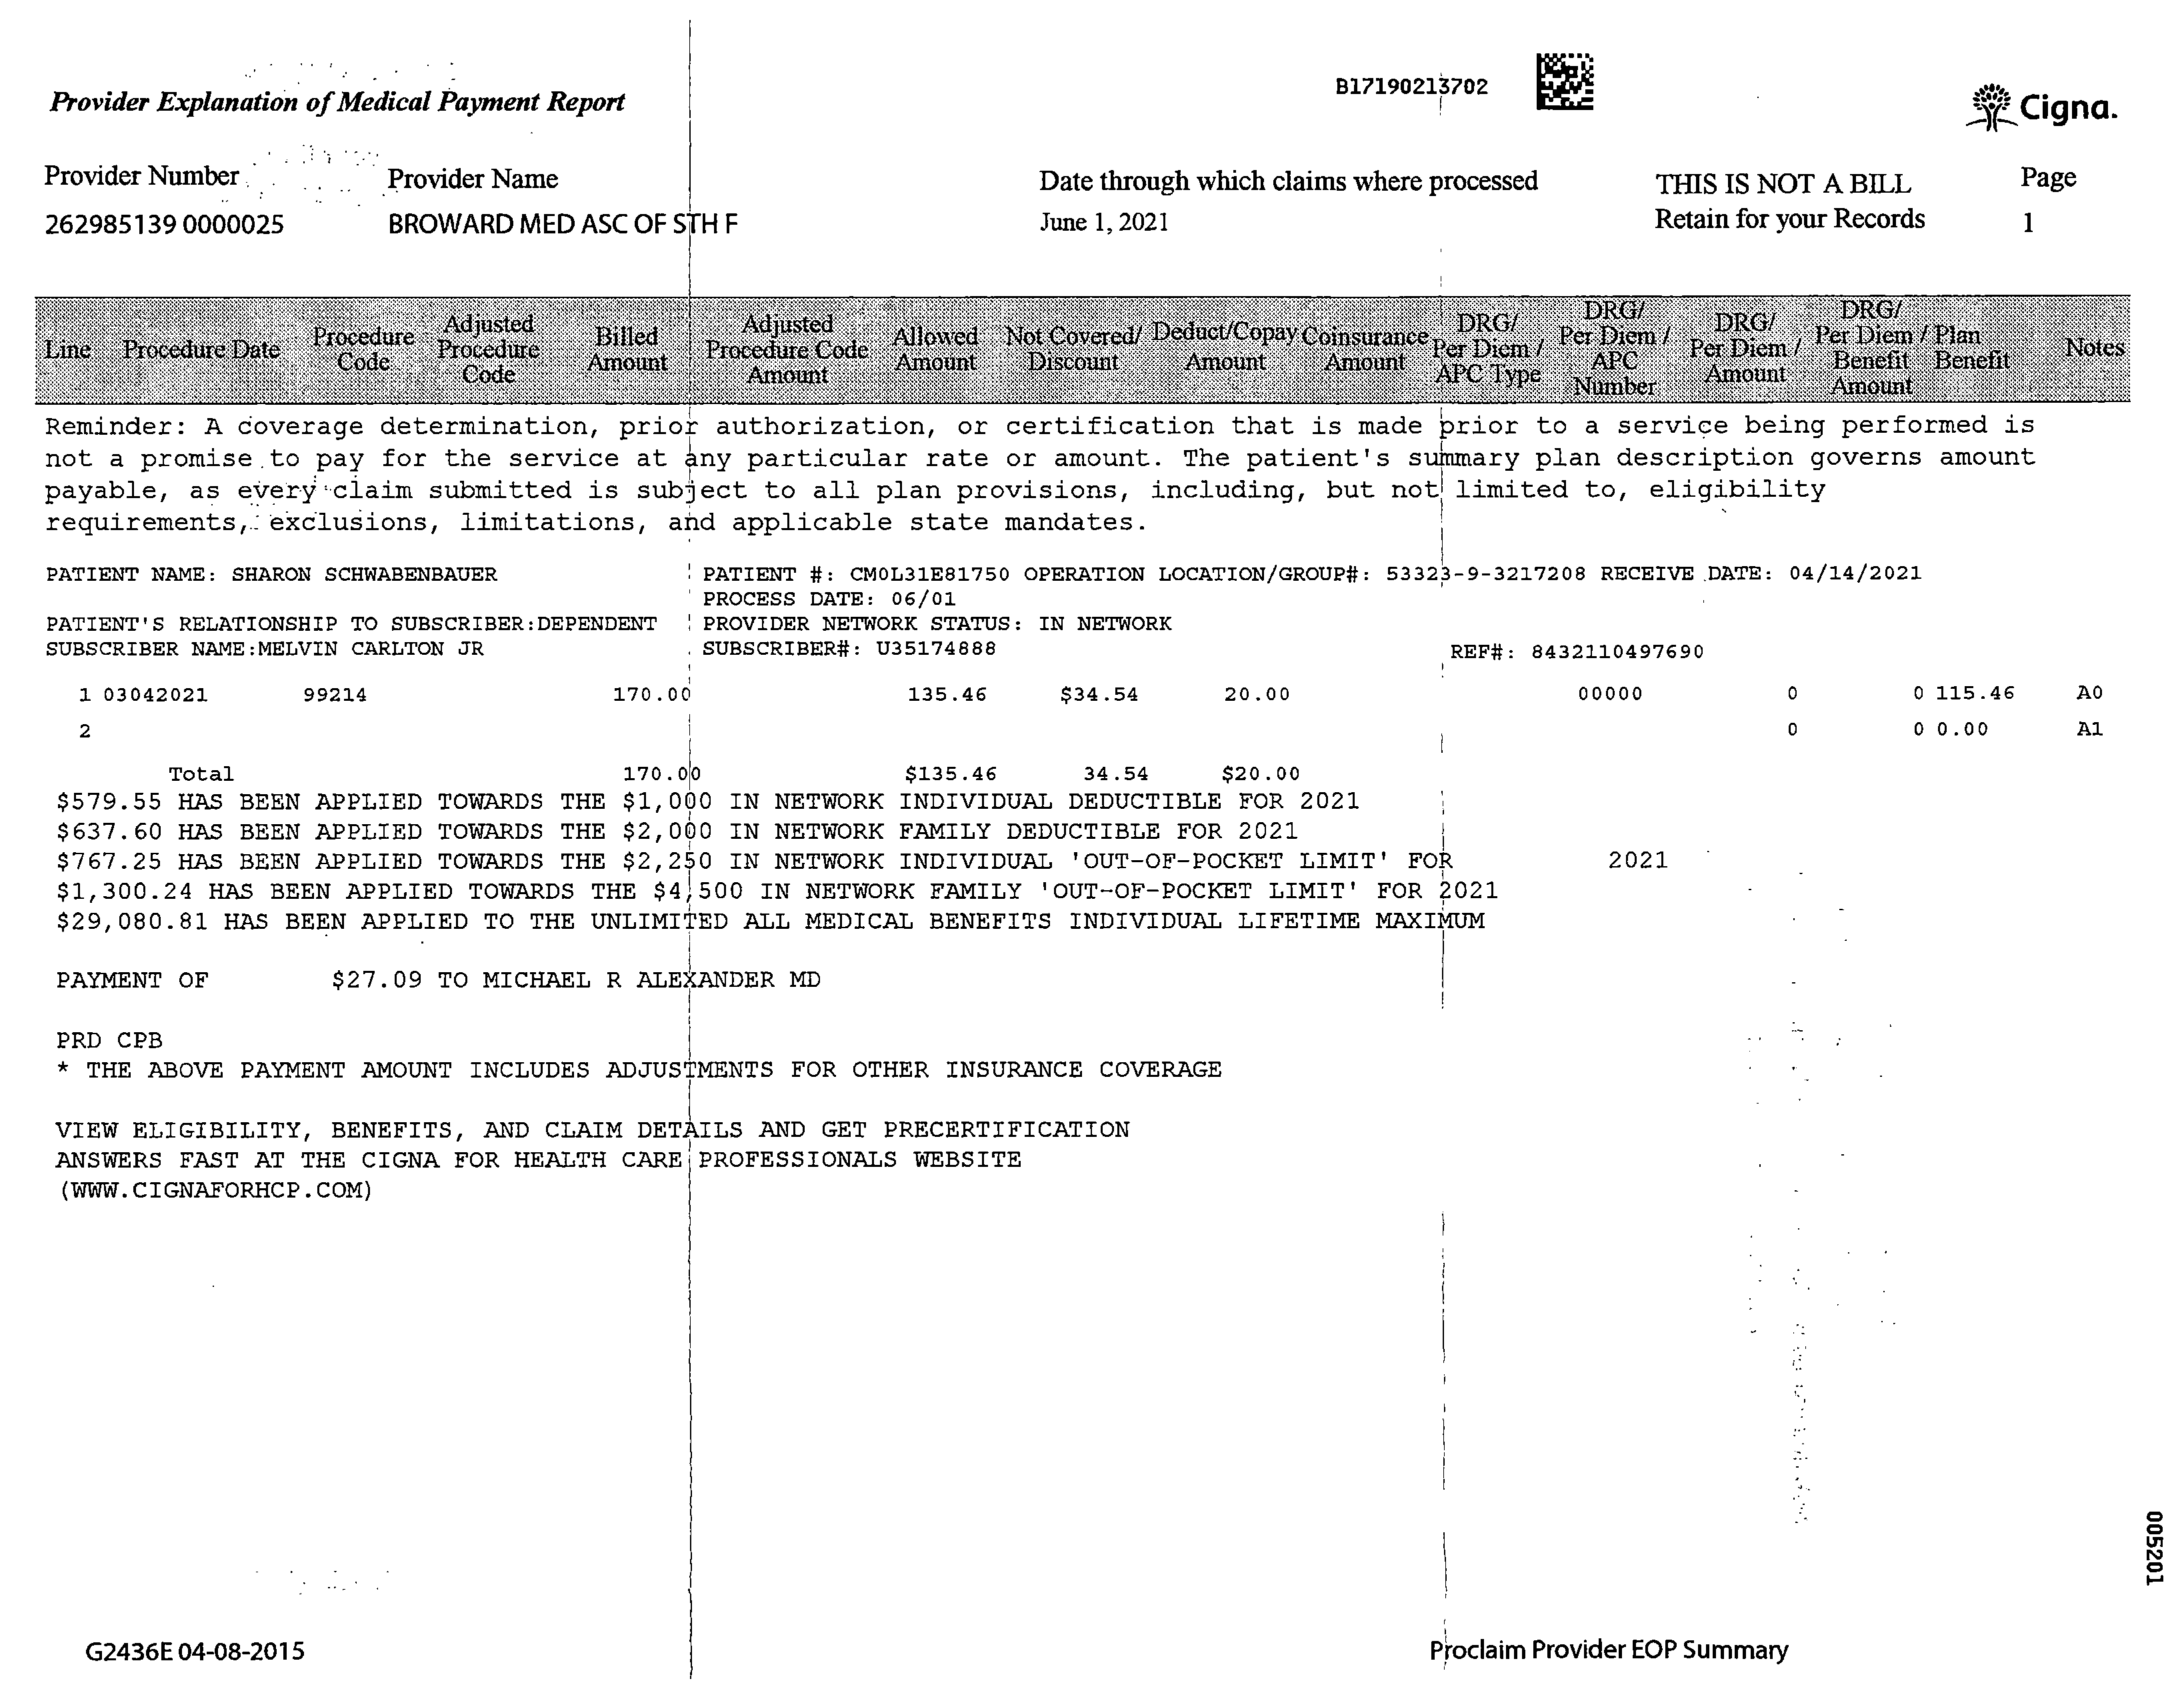data: (27, 147, 753, 254)
